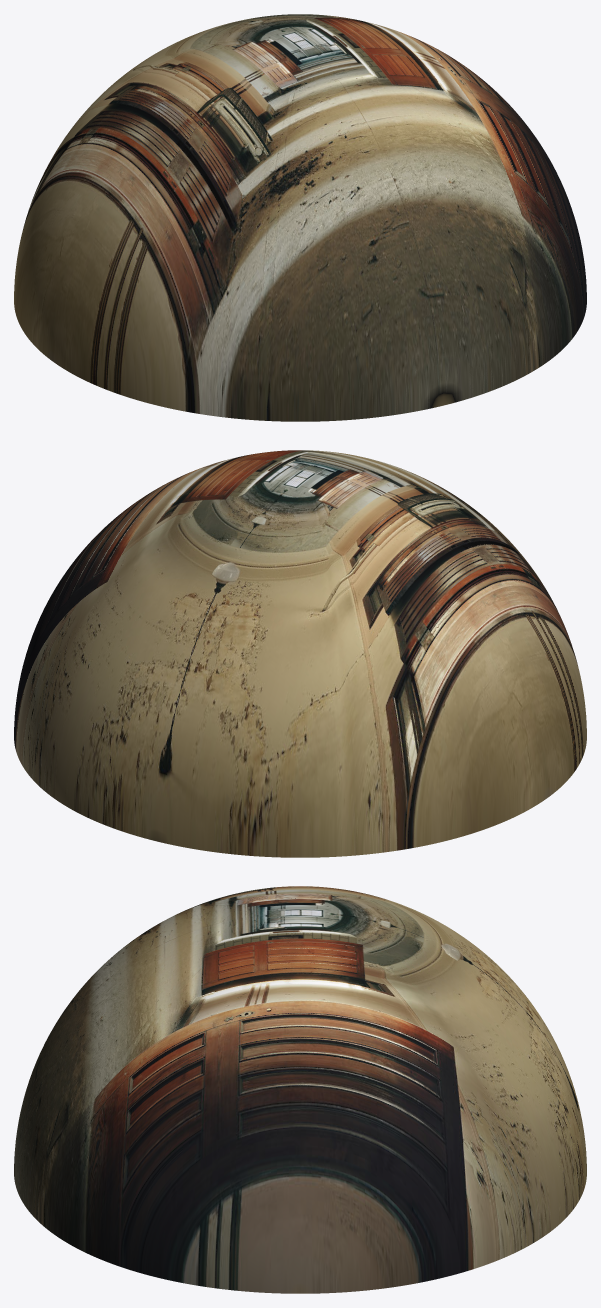
Rendered from HEMISPHERE.fbx.
3 renders of one model, top to bottom at view 1: azimuth 30°, elevation 25°; view 2: azimuth 150°, elevation 25°; view 3: azimuth 270°, elevation 25°, orthographic.
Visible parts, largest first — view 1: Object_1; view 2: Object_1; view 3: Object_1.
Part boxes in pixels (left/top/right/bottom): Object_1: left=14, top=14, right=586, bottom=421; Object_1: left=14, top=450, right=586, bottom=857; Object_1: left=14, top=886, right=586, bottom=1293.
Bounding box in the file's own units: 1 × 0.5 × 1.
Materials: 1 (1 with a texture image).
